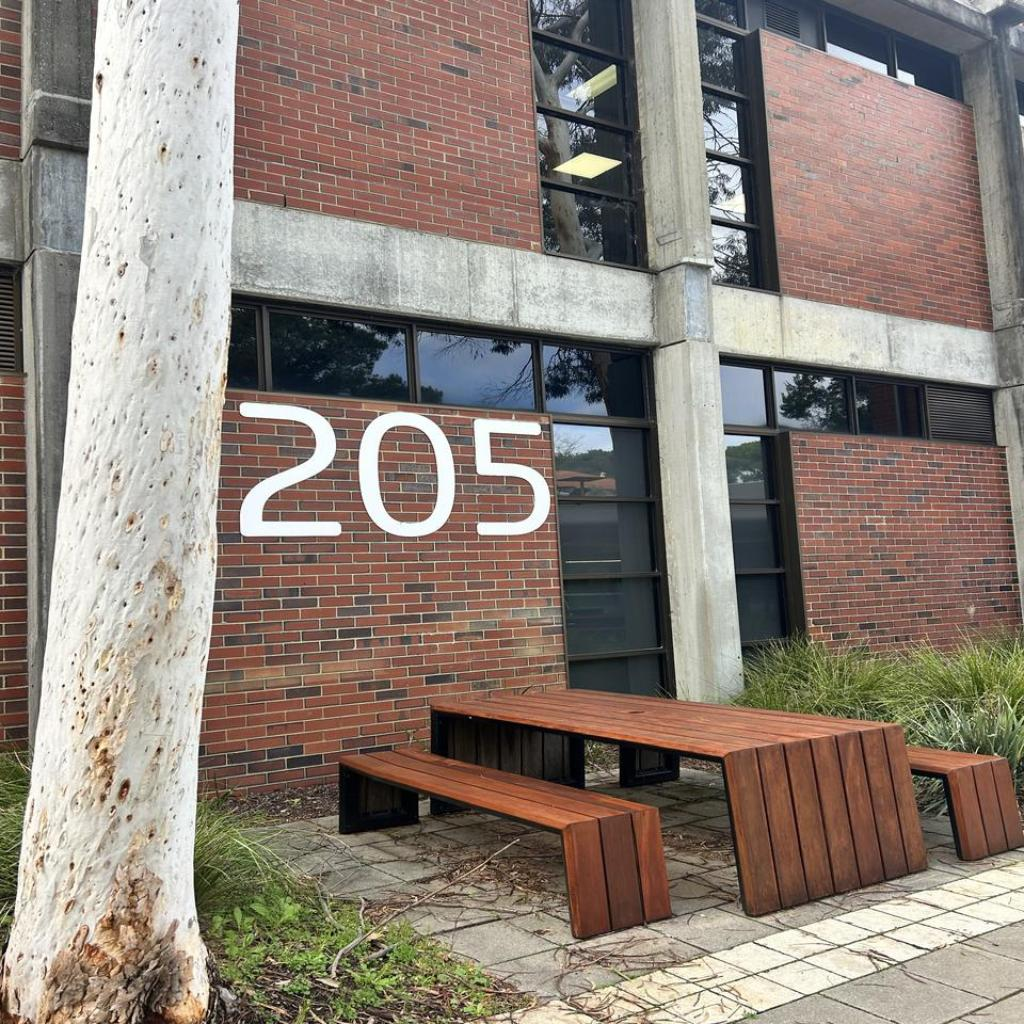BuildingCodes: (236, 398, 552, 538)
